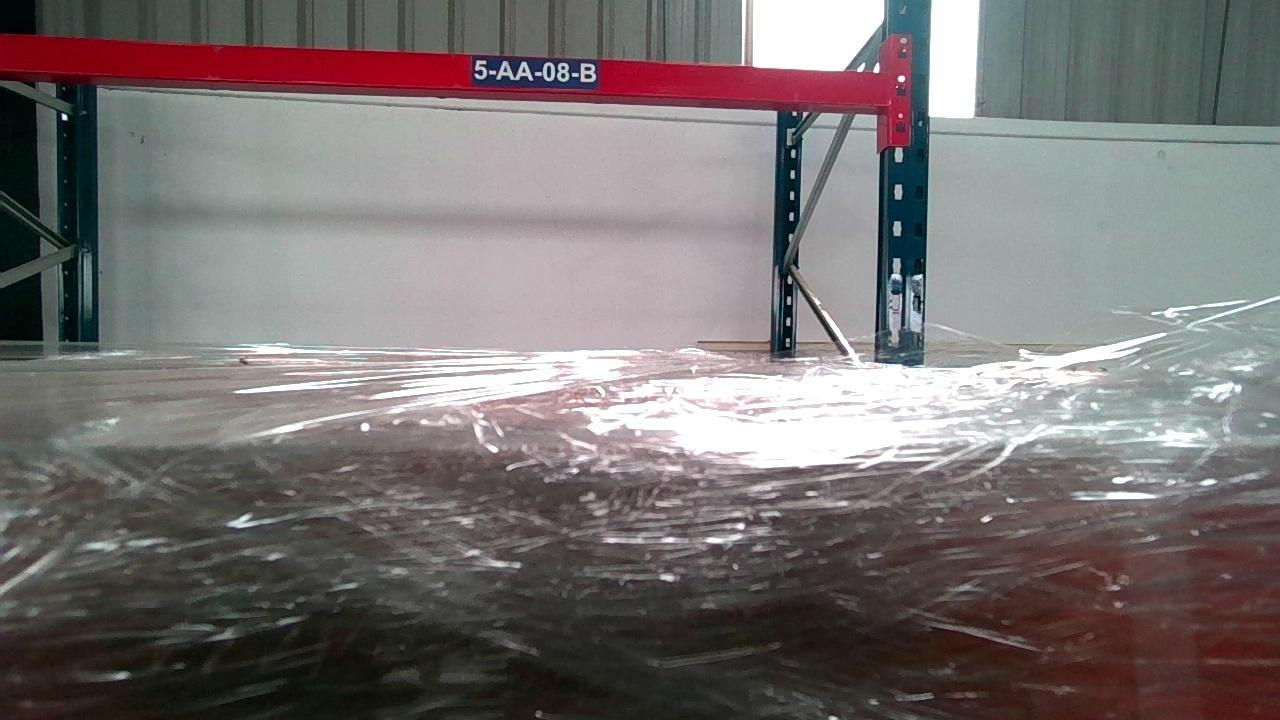h_rack: (2, 34, 882, 108)
